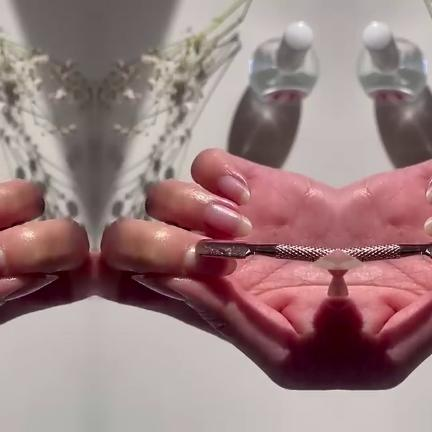Nail: (184, 246, 236, 276), (205, 204, 251, 237), (131, 277, 187, 302), (1, 277, 57, 302), (216, 176, 250, 205), (423, 216, 432, 237), (424, 184, 432, 205), (0, 250, 4, 273)
